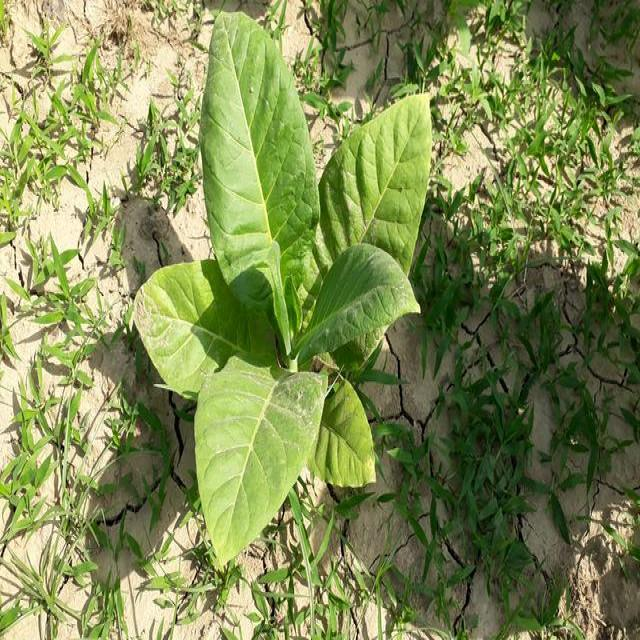crop: (130, 9, 434, 560)
